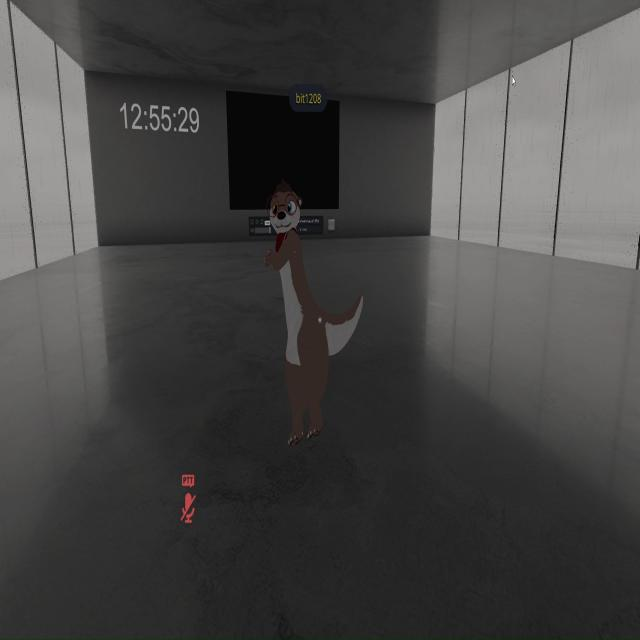human: (261, 182, 367, 458)
